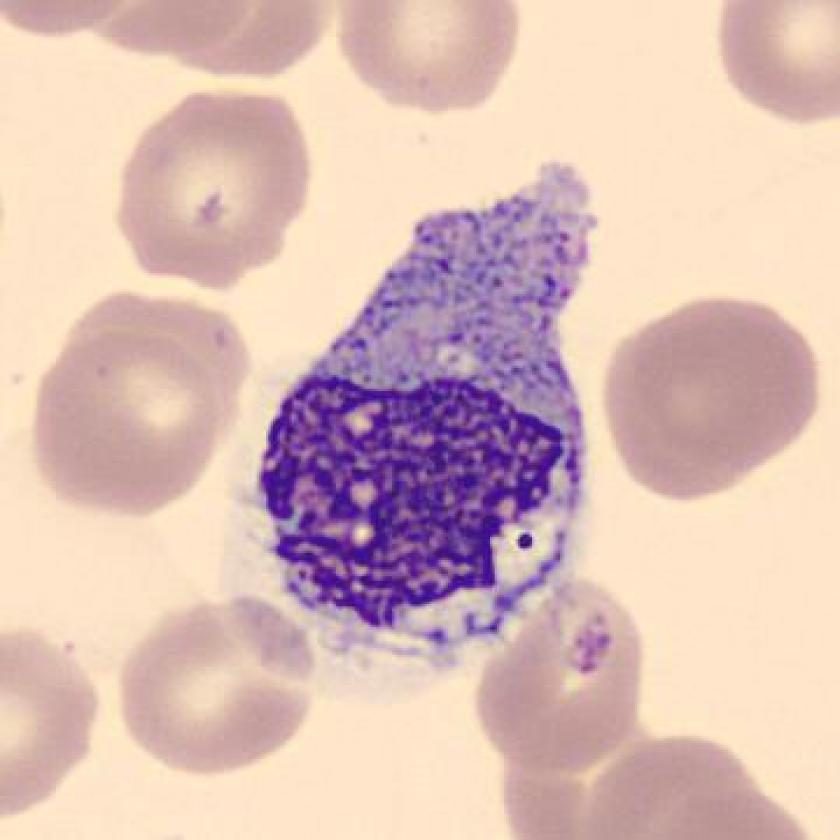monocyte: (232, 138, 626, 695)
